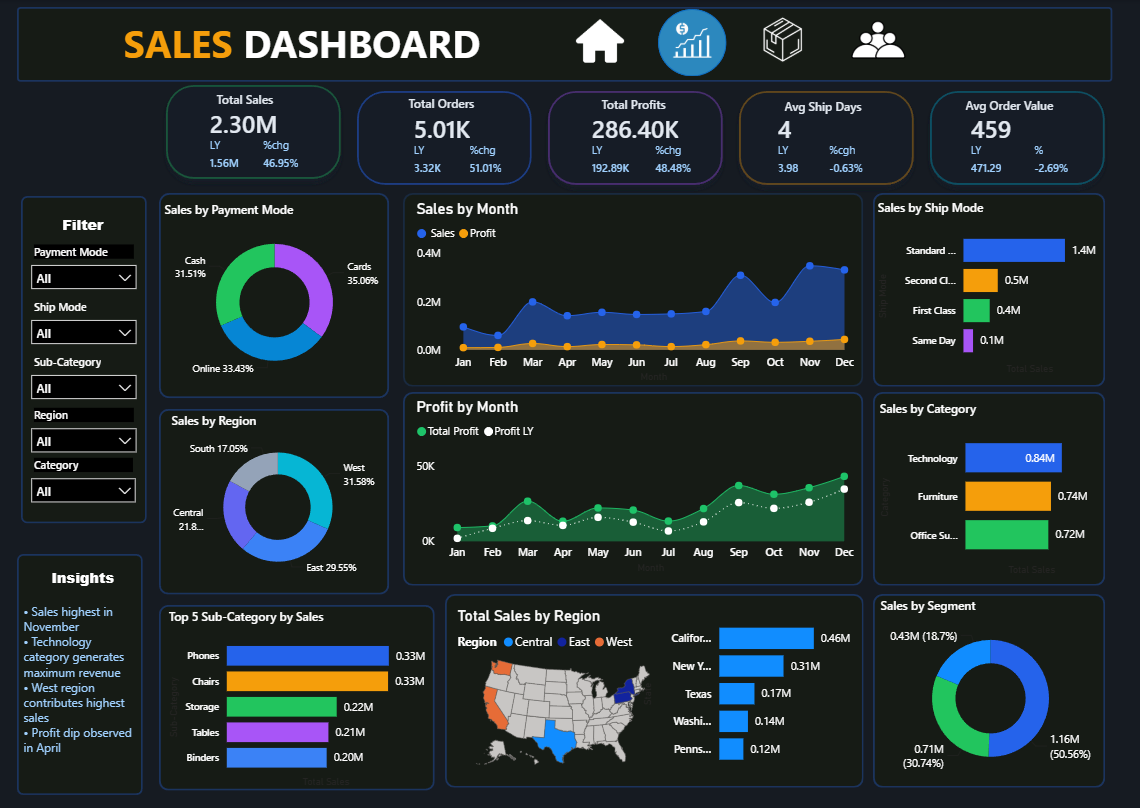

What the dashboard file says about the page in this screenshot:
{"tool":"powerbi","page":{"name":"Sales Overview","canvas":[1280,910],"ordinal":1},"visuals":[{"type":"shape","box":[21,8.2,1227.6,83.9],"z":0},{"type":"shape","box":[178.9,86,213.7,123.1],"z":1000},{"type":"cardVisual","title":"Total Sales","fields":{"Data":["_Measures.Total Sales"]},"box":[226.5,109.2,139.4,90.6],"z":2000},{"type":"textbox","box":[239.3,97.6,91.8,31.4],"z":3000},{"type":"shape","box":[393.9,93.1,213.7,123.1],"z":4000},{"type":"shape","box":[607.6,93.1,213.7,123.1],"z":5000},{"type":"shape","box":[821.3,93.1,213.7,123.1],"z":6000},{"type":"shape","box":[1035.1,93.1,213.7,123.1],"z":7000},{"type":"textbox","box":[454.5,102.2,91.8,31.4],"z":8000},{"type":"textbox","box":[671.7,103.3,91.8,31.4],"z":9000},{"type":"textbox","box":[876,105.7,102.2,31.4],"z":10000},{"type":"textbox","box":[1079.2,104.5,126.6,34.8],"z":11000},{"type":"shape","box":[180.2,216.2,257.9,230],"z":12000},{"type":"shape","box":[180.2,457.8,257.9,207.9],"z":13000},{"type":"shape","box":[180.2,678.5,309,207.9],"z":14000},{"type":"shape","box":[980.5,216.2,260.2,217.2],"z":15000},{"type":"shape","box":[454.3,216.2,515.7,217.2],"z":16000},{"type":"shape","box":[454.3,439.2,515.7,217.2],"z":17000},{"type":"shape","box":[980.5,439.2,260.2,217.2],"z":18000},{"type":"shape","box":[980.5,665.7,260.2,217.2],"z":19000},{"type":"shape","box":[500.8,665.7,469.3,217.2],"z":20000},{"type":"areaChart","title":"Sales by Month","fields":{"Category":["Date Table.Month"],"Y":["_Measures.Total Sales","_Measures.Total Profit"]},"box":[464.3,224.4,505.2,208.6],"z":21000},{"type":"lineChart","title":"Profit by Month","fields":{"Category":["Date Table.Month"],"Y":["_Measures.Total Profit","_Measures.Profit LY"]},"box":[464.3,445.9,505.2,200.4],"z":22000},{"type":"clusteredBarChart","title":"Sales by Ship Mode","fields":{"Category":["Superstore.Ship Mode"],"Y":["_Measures.Total Sales"]},"box":[984,224.3,248.6,196.3],"z":23000},{"type":"clusteredBarChart","title":"Sales by Category","fields":{"Category":["Superstore.Category"],"Y":["_Measures.Total Sales"]},"box":[986.3,449.7,248.6,196.3],"z":24000},{"type":"donutChart","title":" Sales by Segment","fields":{"Category":["Superstore.Segment"],"Y":["_Measures.Total Sales"]},"box":[984,670.4,256.7,207.9],"z":25000},{"type":"donutChart","title":" Sales by Payment Mode","fields":{"Category":["Superstore.Payment Mode"],"Y":["_Measures.Total Sales"]},"box":[181.3,226.7,256.7,207.9],"z":26000},{"type":"donutChart","title":" Sales by Region","fields":{"Category":["Superstore.Region"],"Y":["_Measures.Total Sales"]},"box":[189.5,462.5,248.6,194],"z":27000},{"type":"clusteredBarChart","title":"Top 5 Sub-Category by Sales","fields":{"Category":["Superstore.Sub-Category"],"Y":["_Measures.Total Sales"]},"box":[189.5,682,291.5,200.9],"z":28000},{"type":"clusteredBarChart","fields":{"Category":["Superstore.State"],"Y":["_Measures.Total Sales"]},"box":[718,678.5,241.6,191.7],"z":29000},{"type":"shapeMap","title":"Total Sales by Region","fields":{"Category":["Superstore.State"],"Series":["Superstore.Region"],"Value":["_Measures.Total Sales"]},"box":[509.9,680.7,246.2,188.2],"z":30000},{"type":"shape","box":[25.6,220.1,140.9,366.9],"z":31000},{"type":"slicer","title":"Sales by Ship Mode","fields":{"Values":["Superstore.Payment Mode"]},"box":[30.3,269,131.6,61.7],"z":32000},{"type":"slicer","title":"Sales by Ship Mode","fields":{"Values":["Superstore.Ship Mode"]},"box":[30.3,330.8,131.6,61.7],"z":33000},{"type":"slicer","title":"Sales by Ship Mode","fields":{"Values":["Superstore.Sub-Category"]},"box":[30.3,392.5,131.6,62.9],"z":34000},{"type":"textbox","box":[54.7,233.9,80.3,36.1],"z":35000},{"type":"textbox","box":[135.1,14,411.9,72.1],"z":36000},{"type":"slicer","title":"Sales by Ship Mode","fields":{"Values":["Superstore.Region"]},"box":[30.3,455.4,131.6,55.9],"z":37000},{"type":"slicer","title":"Sales by Ship Mode","fields":{"Values":["Superstore.Category"]},"box":[30.3,511.3,131.5,57],"z":38000},{"type":"cardVisual","title":"Total Sales","fields":{"Data":["_Measures.Total Orders"]},"box":[454.5,113.9,145.6,90.4],"z":39000},{"type":"cardVisual","title":"Total Sales","fields":{"Data":["_Measures.Total Profit"]},"box":[654.1,113.9,162.1,90.4],"z":40000},{"type":"cardVisual","title":"Total Sales","fields":{"Data":["_Measures.Avg Ship Days"]},"box":[863.1,113.9,135,90.4],"z":41000},{"type":"cardVisual","title":"Total Sales","fields":{"Data":["_Measures.Avg Order Value"]},"box":[1079.2,113.9,162.1,90.4],"z":42000},{"type":"shape","box":[21,620.8,140.9,270.2],"z":43000},{"type":"textbox","box":[23.3,670.9,138.6,216.6],"z":44000},{"type":"textbox","box":[54.7,630.1,80.3,36.1],"z":45000},{"type":"image","box":[821.2,3.5,116.2,82.5],"z":46000},{"type":"image","box":[947.8,13.9,76.7,61.6],"z":47000},{"type":"image","box":[637.7,20.9,74.3,48.8],"z":48000},{"type":"shape","box":[739.9,10.5,76.7,75.5],"z":50000},{"type":"image","box":[730.6,5.8,95.2,79],"z":50500}]}

Visuals, with their boxes in screenshot pixels (x1, y1, x2, y2), scaled from the page's 1280x910 canvas onto the 1140x808 screenshot:
shape: select_region(19, 7, 1112, 82)
shape: select_region(159, 76, 350, 186)
"Total Sales" cardVisual: select_region(202, 97, 326, 177)
textbox: select_region(213, 87, 295, 115)
shape: select_region(351, 83, 541, 192)
shape: select_region(541, 83, 731, 192)
shape: select_region(731, 83, 922, 192)
shape: select_region(922, 83, 1112, 192)
textbox: select_region(405, 91, 487, 119)
textbox: select_region(598, 92, 680, 120)
textbox: select_region(780, 94, 871, 122)
textbox: select_region(961, 93, 1074, 124)
shape: select_region(160, 192, 390, 396)
shape: select_region(160, 406, 390, 591)
shape: select_region(160, 602, 436, 787)
shape: select_region(873, 192, 1105, 385)
shape: select_region(405, 192, 864, 385)
shape: select_region(405, 390, 864, 583)
shape: select_region(873, 390, 1105, 583)
shape: select_region(873, 591, 1105, 784)
shape: select_region(446, 591, 864, 784)
"Sales by Month" areaChart: select_region(414, 199, 863, 384)
"Profit by Month" lineChart: select_region(414, 396, 863, 574)
"Sales by Ship Mode" clusteredBarChart: select_region(876, 199, 1098, 373)
"Sales by Category" clusteredBarChart: select_region(878, 399, 1100, 574)
" Sales by Segment" donutChart: select_region(876, 595, 1105, 780)
" Sales by Payment Mode" donutChart: select_region(161, 201, 390, 386)
" Sales by Region" donutChart: select_region(169, 411, 390, 583)
"Top 5 Sub-Category by Sales" clusteredBarChart: select_region(169, 606, 428, 784)
clusteredBarChart - Superstore.State x _Measures.Total Sales: select_region(639, 602, 855, 773)
"Total Sales by Region" shapeMap: select_region(454, 604, 673, 772)
shape: select_region(23, 195, 148, 521)
"Sales by Ship Mode" slicer: select_region(27, 239, 144, 294)
"Sales by Ship Mode" slicer: select_region(27, 294, 144, 349)
"Sales by Ship Mode" slicer: select_region(27, 349, 144, 404)
textbox: select_region(49, 208, 120, 240)
textbox: select_region(120, 12, 487, 76)
"Sales by Ship Mode" slicer: select_region(27, 404, 144, 454)
"Sales by Ship Mode" slicer: select_region(27, 454, 144, 505)
"Total Sales" cardVisual: select_region(405, 101, 534, 181)
"Total Sales" cardVisual: select_region(583, 101, 727, 181)
"Total Sales" cardVisual: select_region(769, 101, 889, 181)
"Total Sales" cardVisual: select_region(961, 101, 1106, 181)
shape: select_region(19, 551, 144, 791)
textbox: select_region(21, 596, 144, 788)
textbox: select_region(49, 559, 120, 592)
image: select_region(731, 3, 835, 76)
image: select_region(844, 12, 912, 67)
image: select_region(568, 19, 634, 62)
shape: select_region(659, 9, 727, 76)
image: select_region(651, 5, 735, 75)
